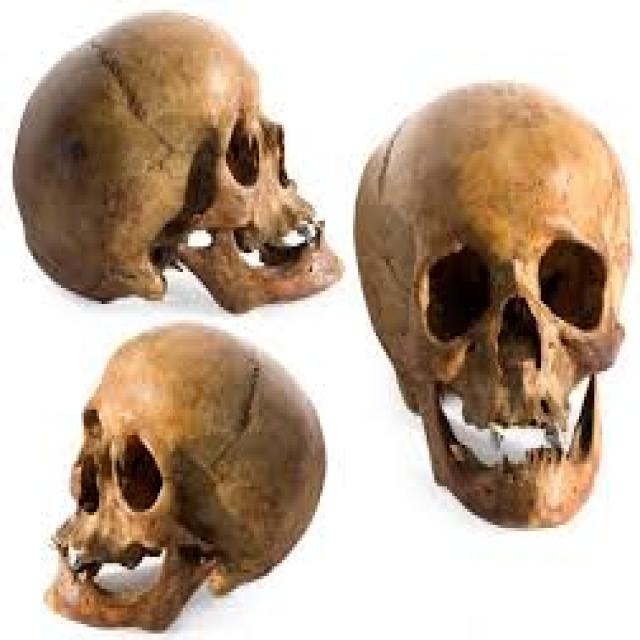skull: (352, 74, 636, 540)
